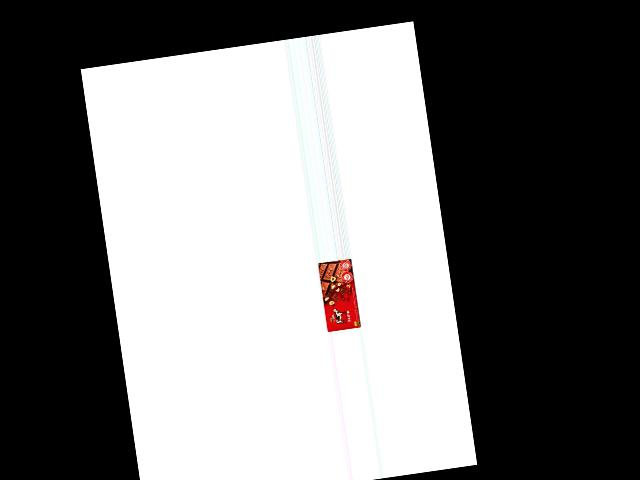chocolate: (317, 258, 361, 332)
